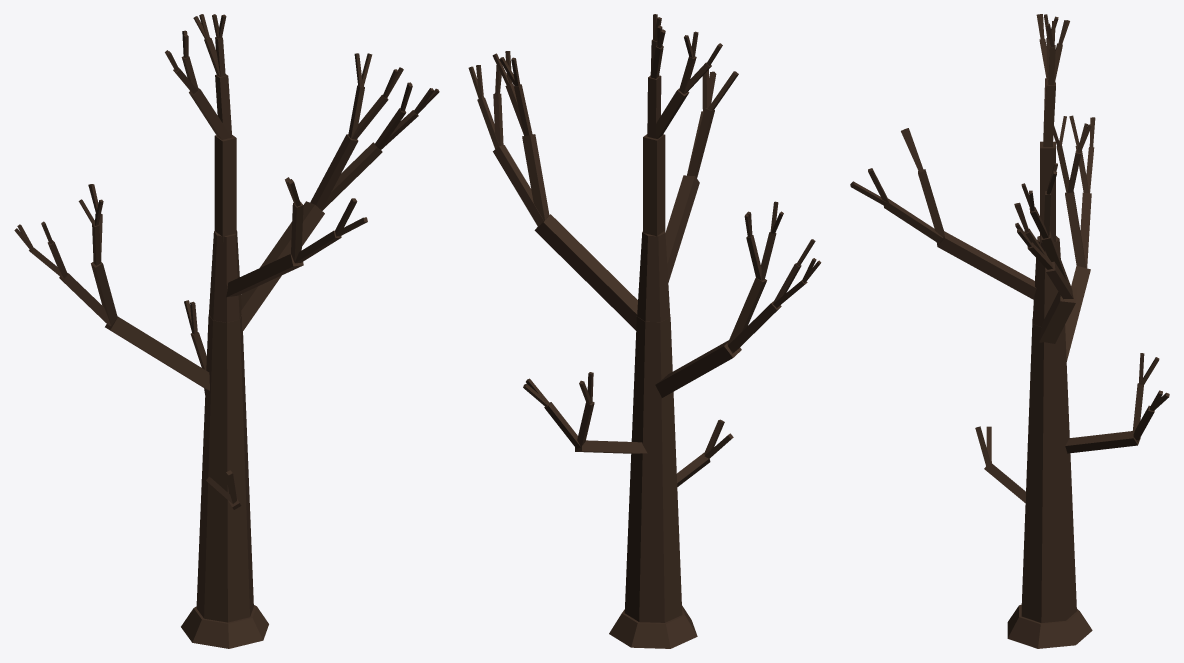
Rendered from tree_dead.glb.
3 renders of one model, left to right at view 1: azimuth 30°, elevation 25°; view 2: azimuth 150°, elevation 25°; view 3: azimuth 270°, elevation 25°, orthographic.
Visible parts, largest first — view 1: TreeDead; view 2: TreeDead; view 3: TreeDead.
Boxes of the visible parts, x1,y1,x2,y2 form: TreeDead: (14, 14, 439, 648); TreeDead: (468, 14, 821, 648); TreeDead: (850, 14, 1169, 648).
Bounding box in the file's own units: 3.3 × 5.01 × 2.4.
